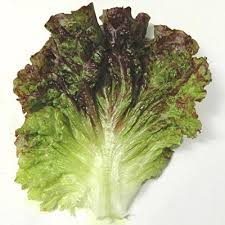lettuce: (10, 2, 210, 221)
